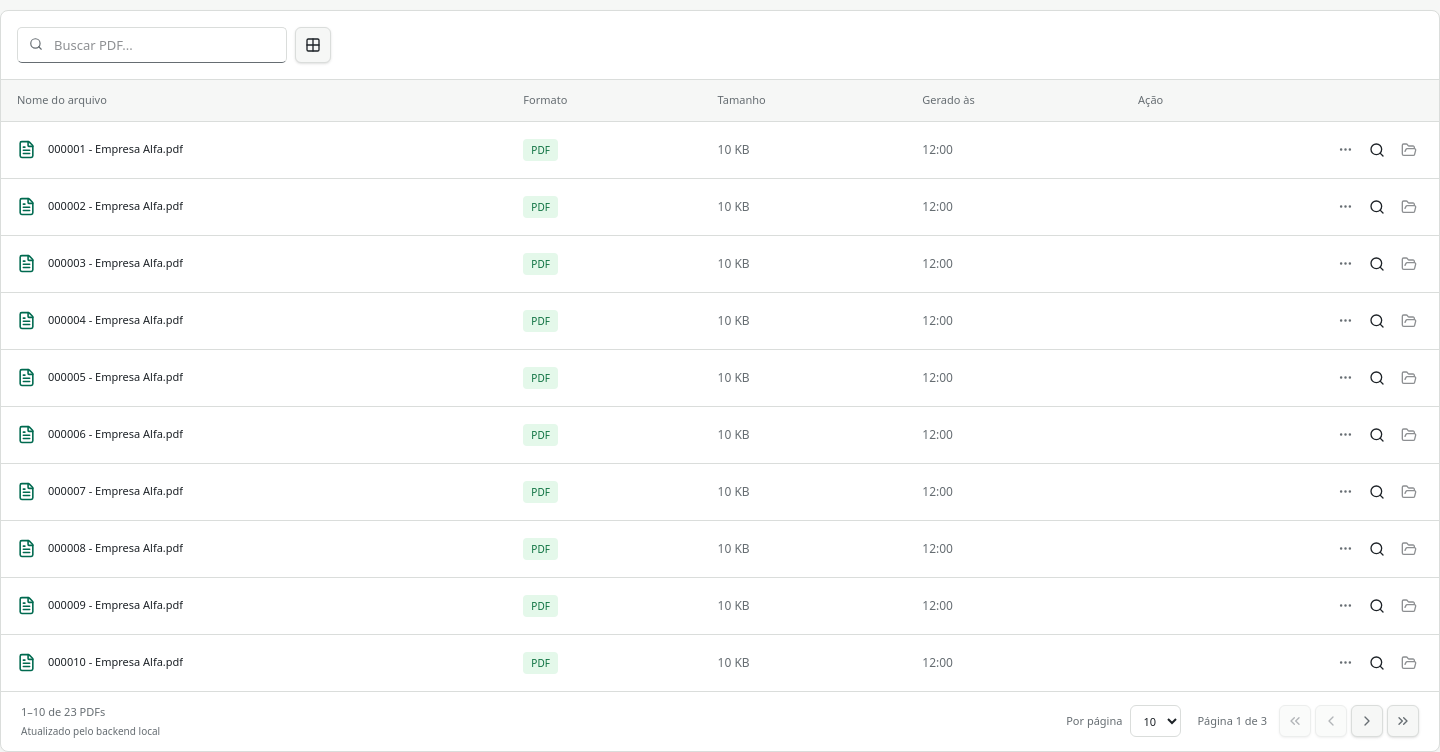
Test case: Output pagination › navigates between PDF pages with correct ranges and boundary buttons
(page scrolled)
Expected: the text "1–10 de 23 PDFs" is shown, x1=21 y1=704 x2=105 y2=718
Expected: the button named "Primeira página" is disabled, x1=1279 y1=705 x2=1311 y2=737
Click the button named "Próxima página" at (1367, 721), box x1=1351 y1=705 x2=1383 y2=737
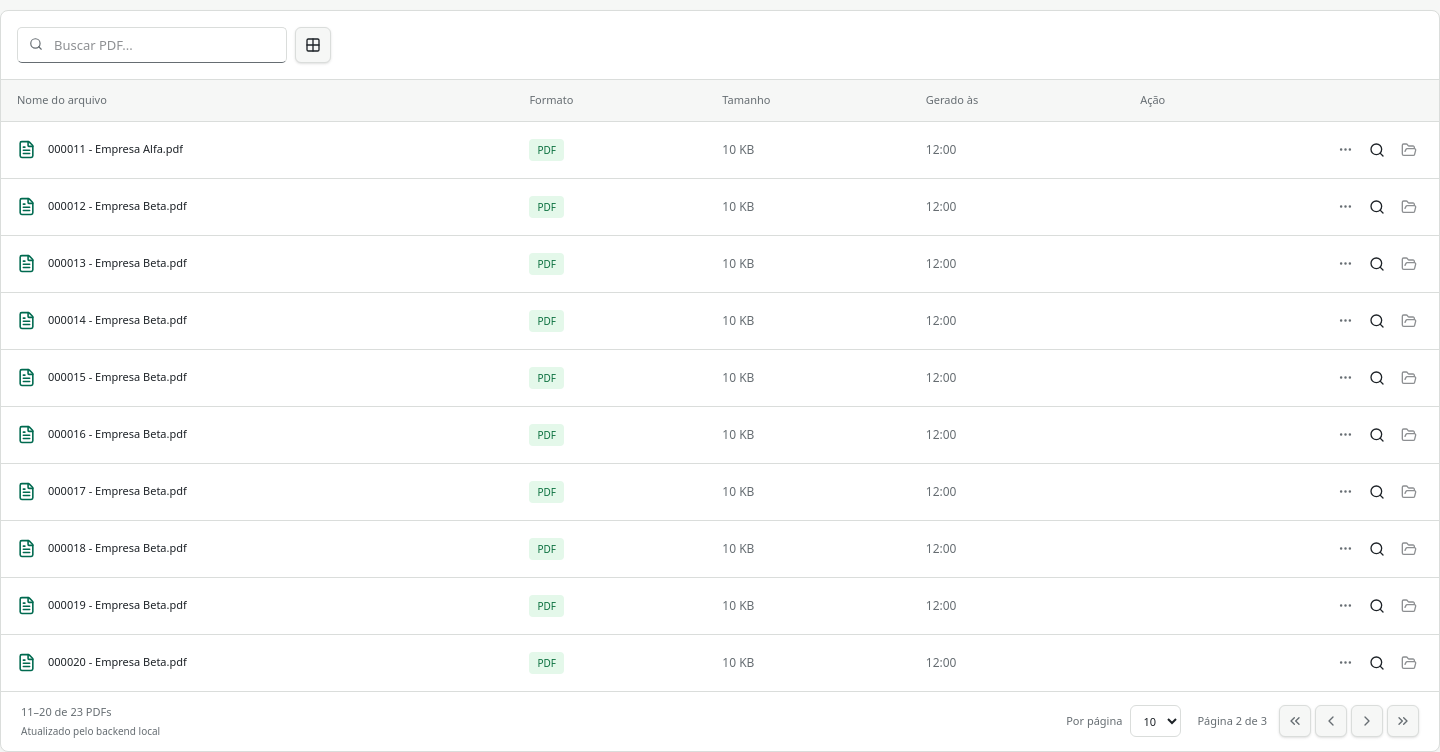
Expected: the text "11–20 de 23 PDFs" is shown, x1=21 y1=704 x2=112 y2=718
Expected: the row "000011 - Empresa Alfa.pdf PDF 10 KB 12:00" is shown, x1=1 y1=121 x2=1439 y2=178
Expected: the text "000001 -" is gone
Click the button named "Última página" at (1403, 721), box x1=1387 y1=705 x2=1419 y2=737
(page scrolled)
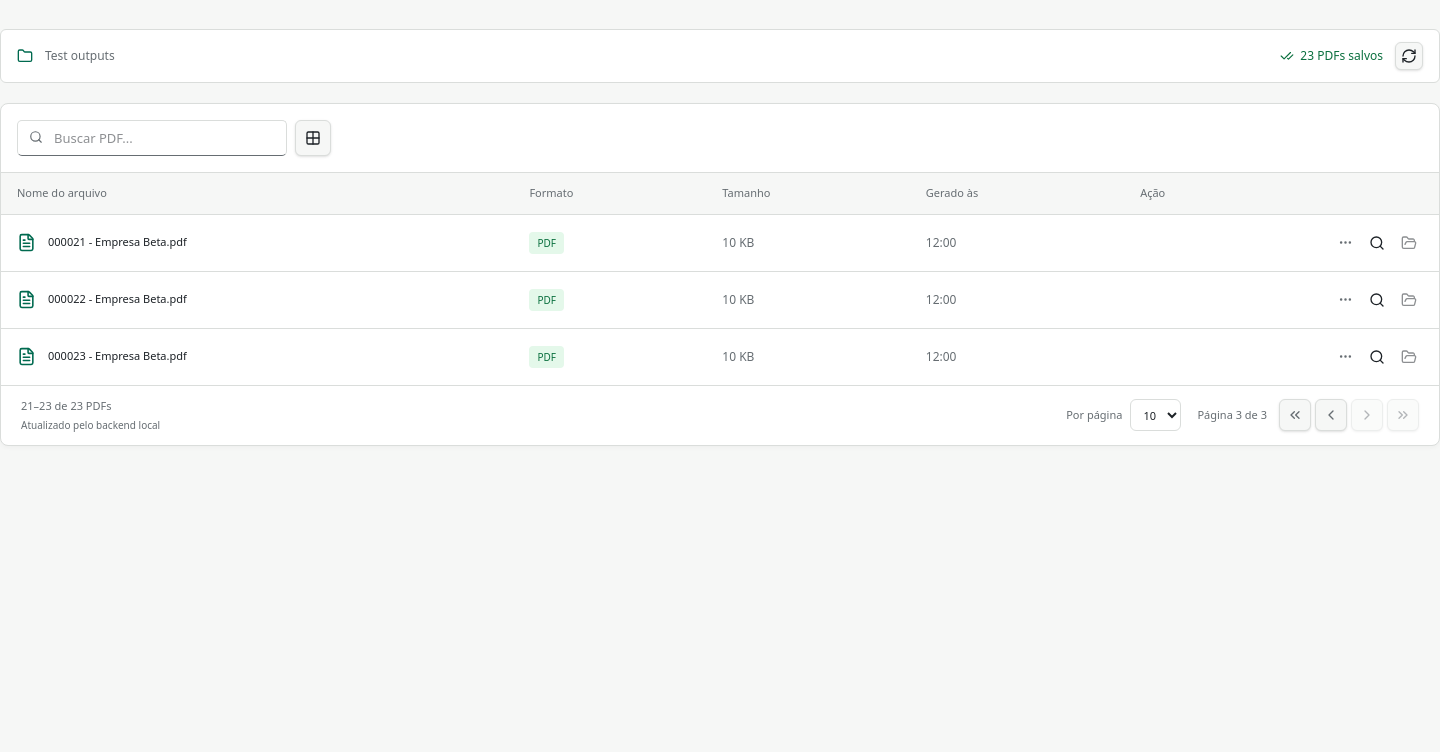
Expected: the text "21–23 de 23 PDFs" is shown, x1=21 y1=398 x2=112 y2=412
Expected: the text "Página 3 de 3" is shown, x1=1197 y1=407 x2=1267 y2=424
Expected: the button named "Próxima página" is disabled, x1=1351 y1=399 x2=1383 y2=431
Click the button named "Página anterior" at (1331, 415), box x1=1315 y1=399 x2=1347 y2=431
(page scrolled)
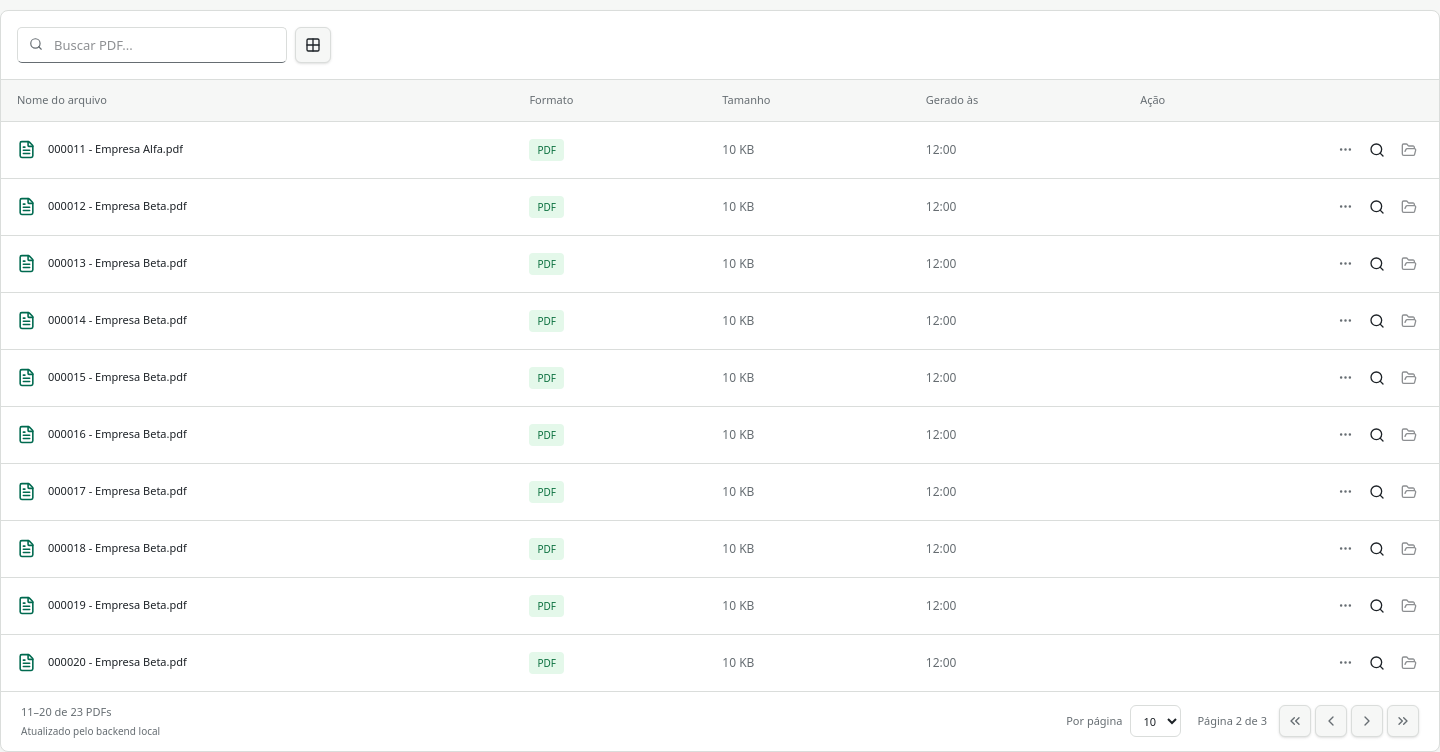
Expected: the text "11–20 de 23 PDFs" is shown, x1=21 y1=704 x2=112 y2=718
Click the button named "Primeira página" at (1295, 721), box x1=1279 y1=705 x2=1311 y2=737
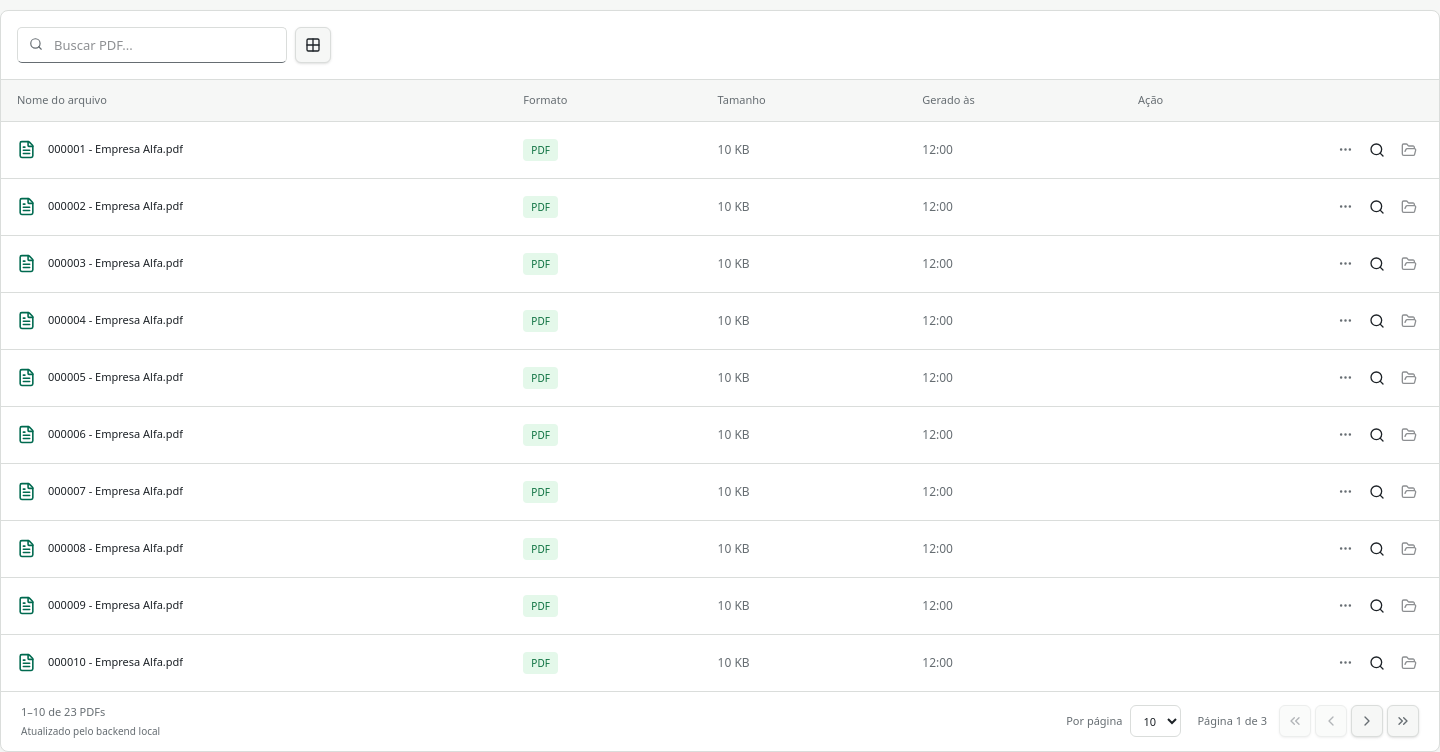
Expected: the text "1–10 de 23 PDFs" is shown, x1=21 y1=704 x2=105 y2=718
